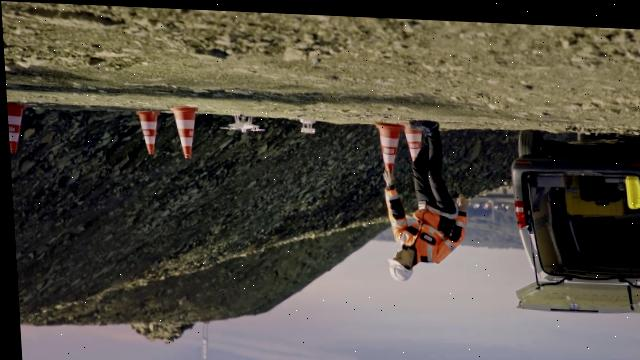drone: (215, 109, 264, 132)
